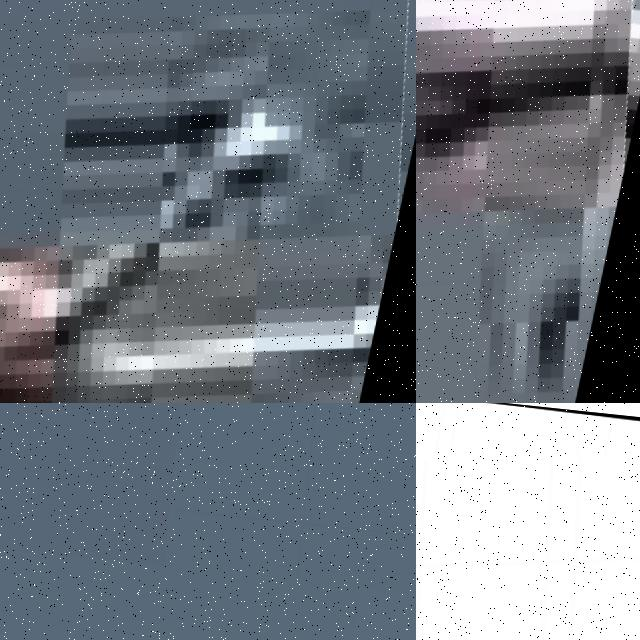0: (0, 0, 416, 403), (416, 0, 640, 403)
drone: (416, 403, 640, 640)
